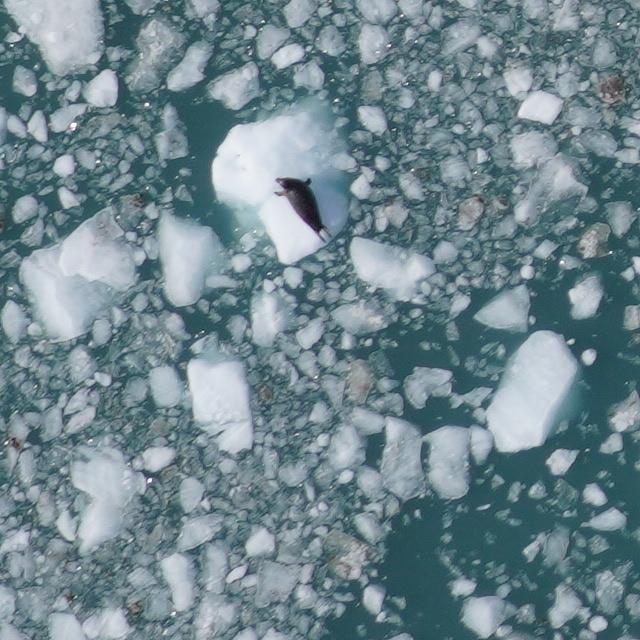seal: (267, 165, 331, 251)
